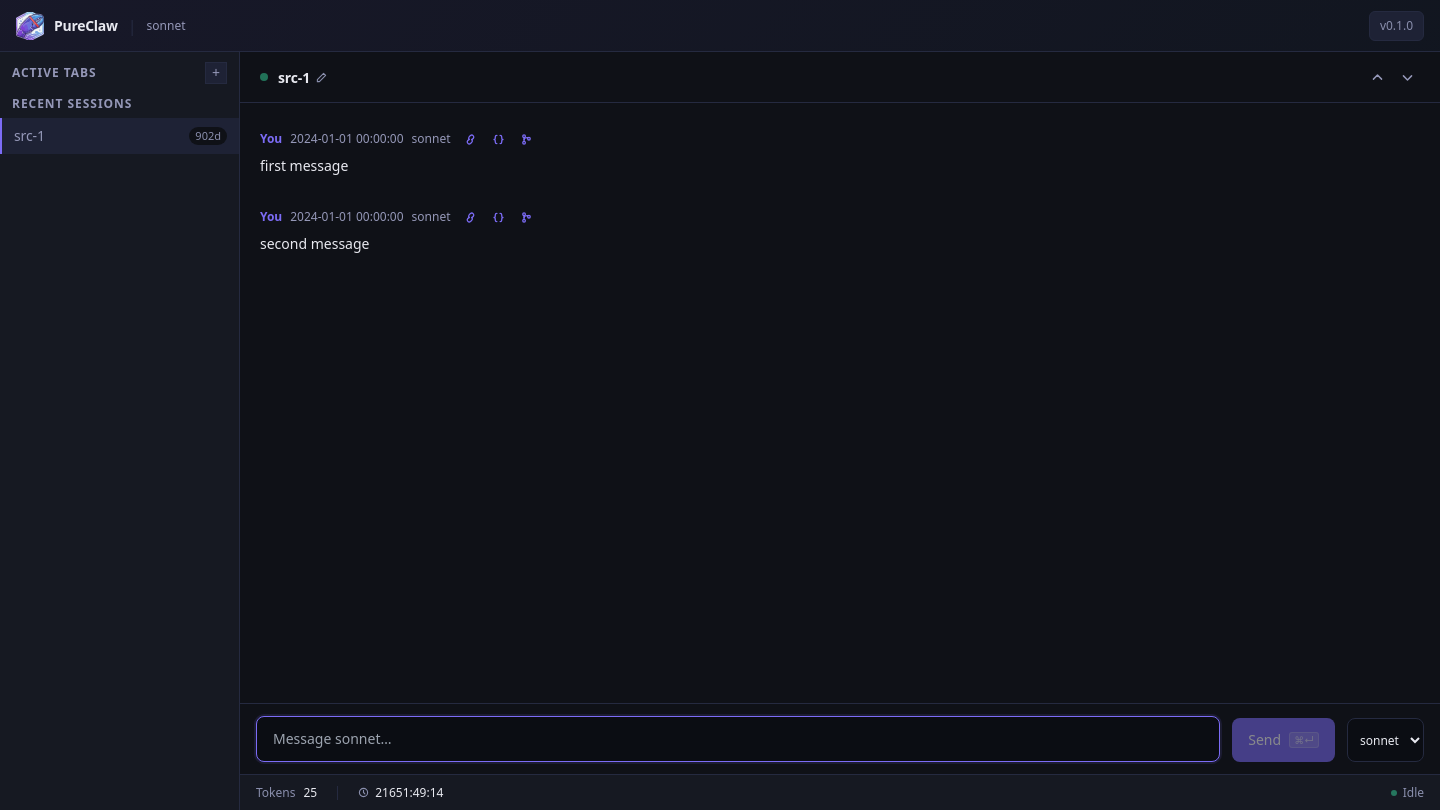
Test: App branch draft flow › a branch draft hides the new-session composer form (inherits source settings)
Click the 1st button named "branch session from here": {"x": 526, "y": 139} [514,127,538,151]
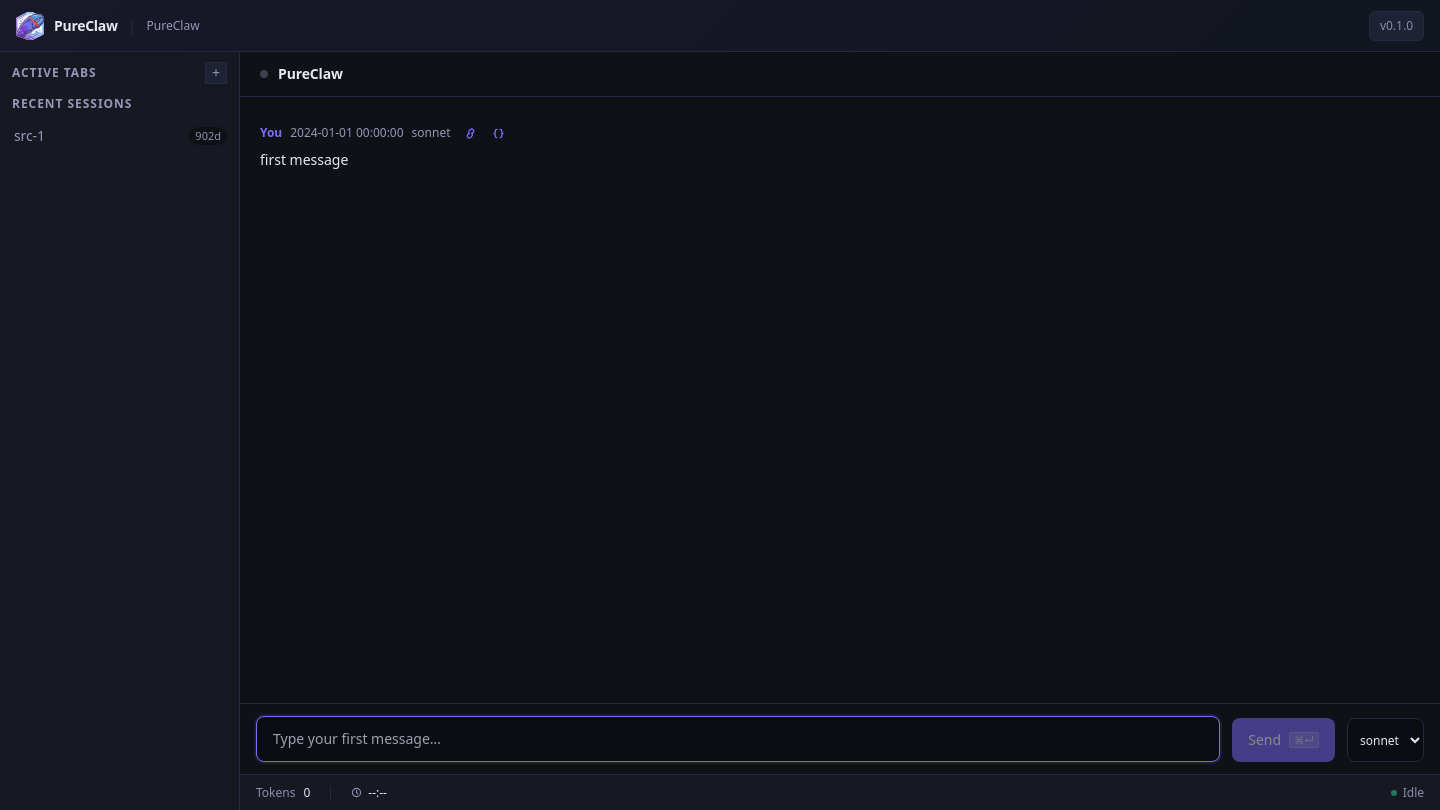
Check: the dropdown named "session model" is shown, box [1347,718,1424,762]
Check: the text box with placeholder "Type your first message…" is shown, box [256,716,1220,762]
